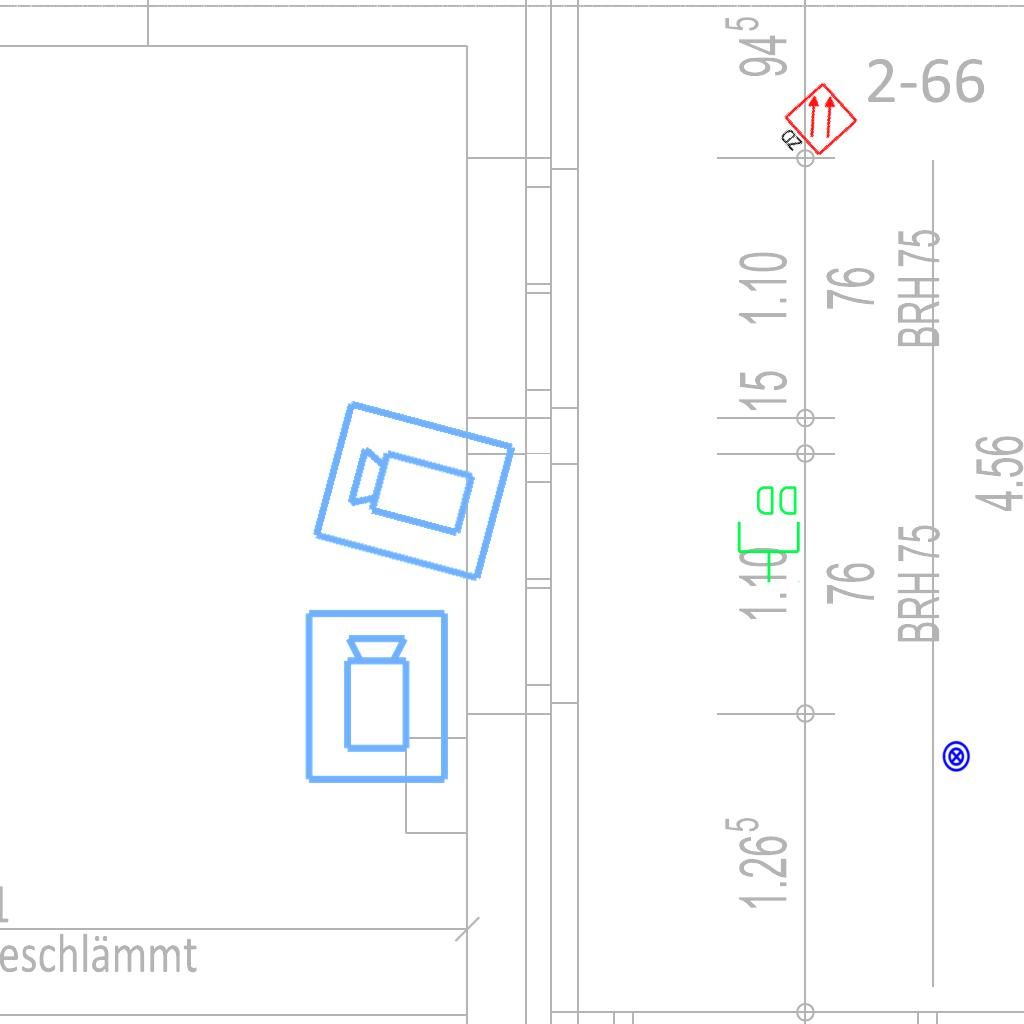Datenanschluss_zweifach: (735, 482, 804, 585)
KFO_Kamera_mit_Festobjektiv: (307, 392, 523, 588), (301, 606, 455, 788)
Taster_beleuchtet: (940, 740, 973, 773)
ZD_Melder_in_Zwischendecke_mit_Revisionsoeffnung_mind_40_x_40_cm: (767, 80, 862, 172)
